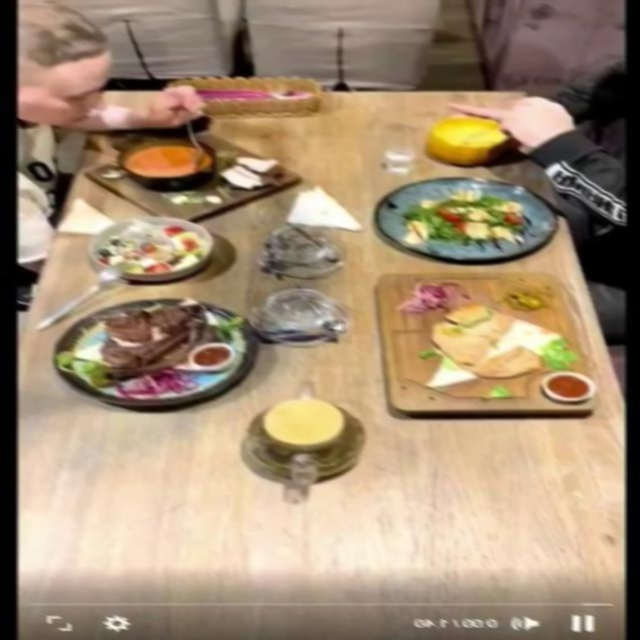meat: (378, 271, 592, 410), (51, 296, 261, 406)
salad: (375, 176, 561, 261), (85, 214, 213, 280)
soup: (84, 130, 306, 222), (426, 115, 512, 164)
tea: (231, 369, 380, 496)
